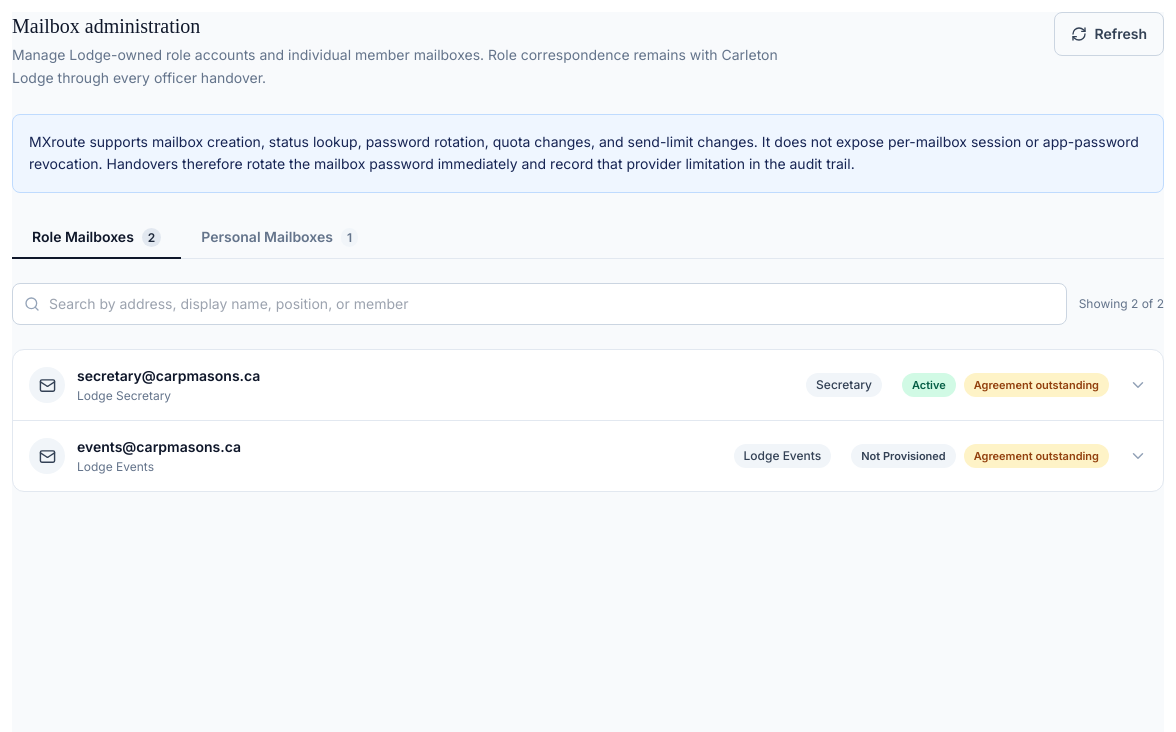
Scenario: LodgeEmailAccountsManager compact mailbox management › shows mailbox details but no administrative actions to read-only managers
What coordinates should you click on to do the following:
click the button with aria-label "Manage mailbox secretary@carpmasons.ca"
I would click on:
 (47, 385)
Its box is [13,350,1163,420].
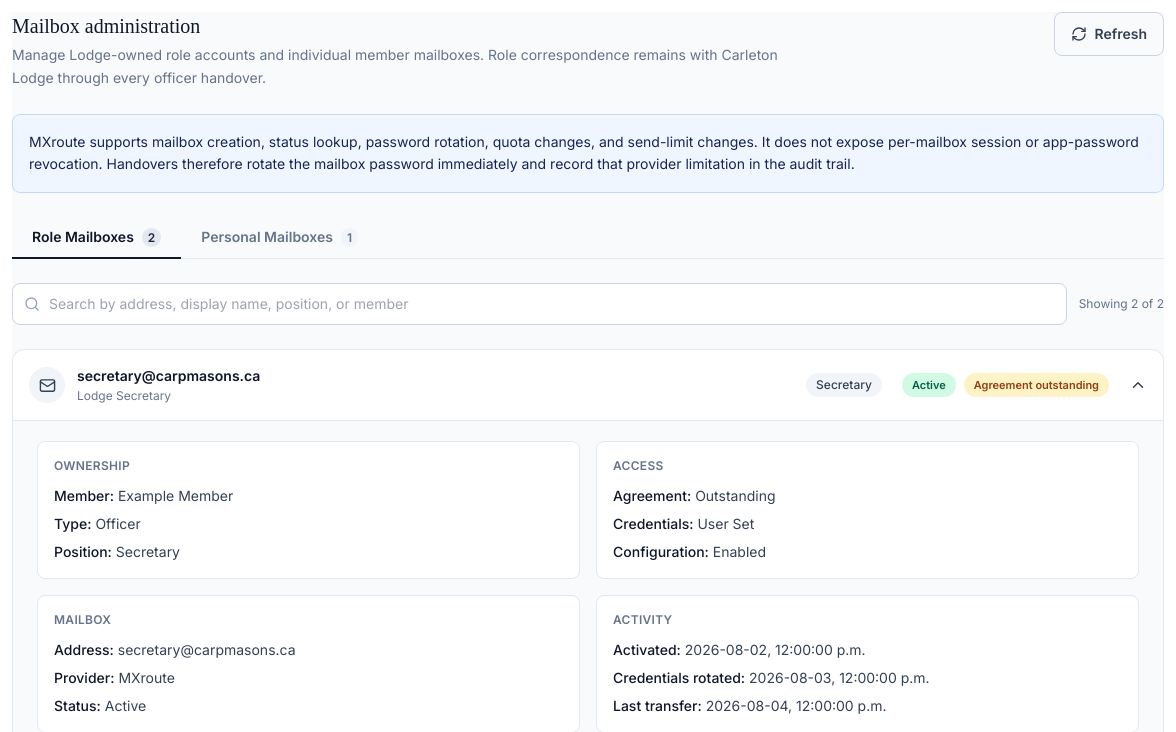
Expected: the text "Credentials:" is shown, [613,515,694,532]
